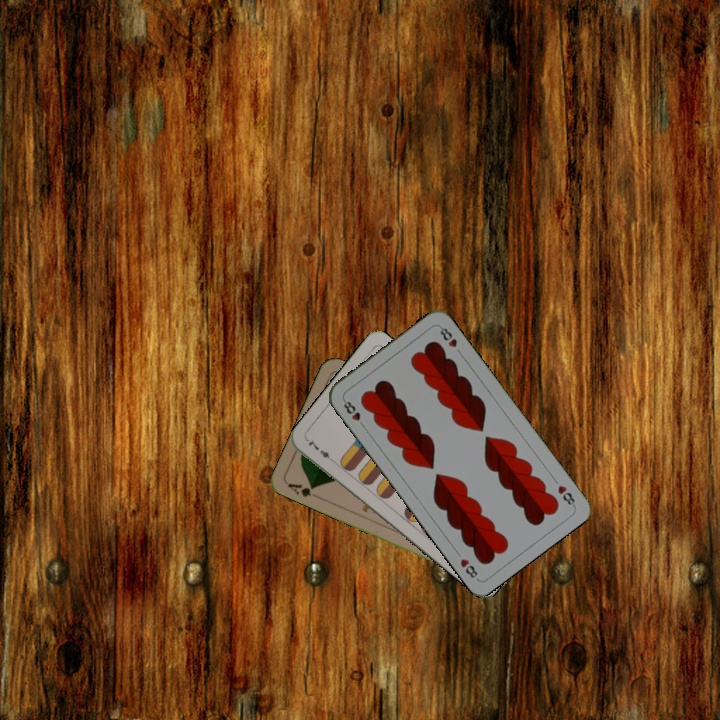E7: (303, 435, 337, 466)
GA: (284, 479, 322, 501)
H8: (339, 395, 368, 430), (554, 481, 578, 509)
